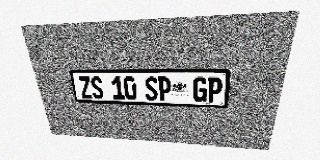0: (123, 77, 137, 100)
1: (110, 76, 125, 100)
G: (193, 77, 208, 102)
P: (207, 77, 223, 102), (158, 77, 171, 101)
S: (89, 76, 104, 99), (144, 77, 158, 101)
Z: (78, 76, 93, 99)
